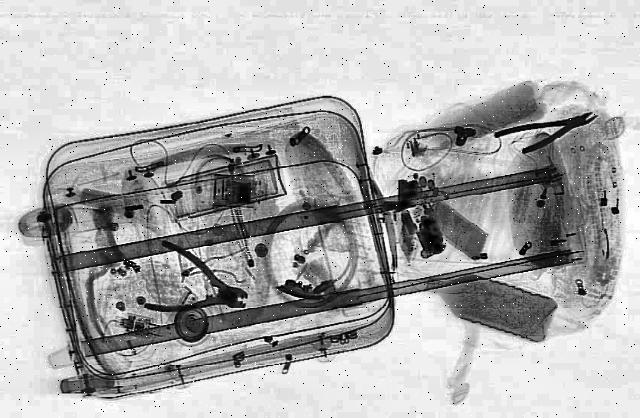Pliers: (119, 239, 274, 330), (493, 100, 607, 156)
